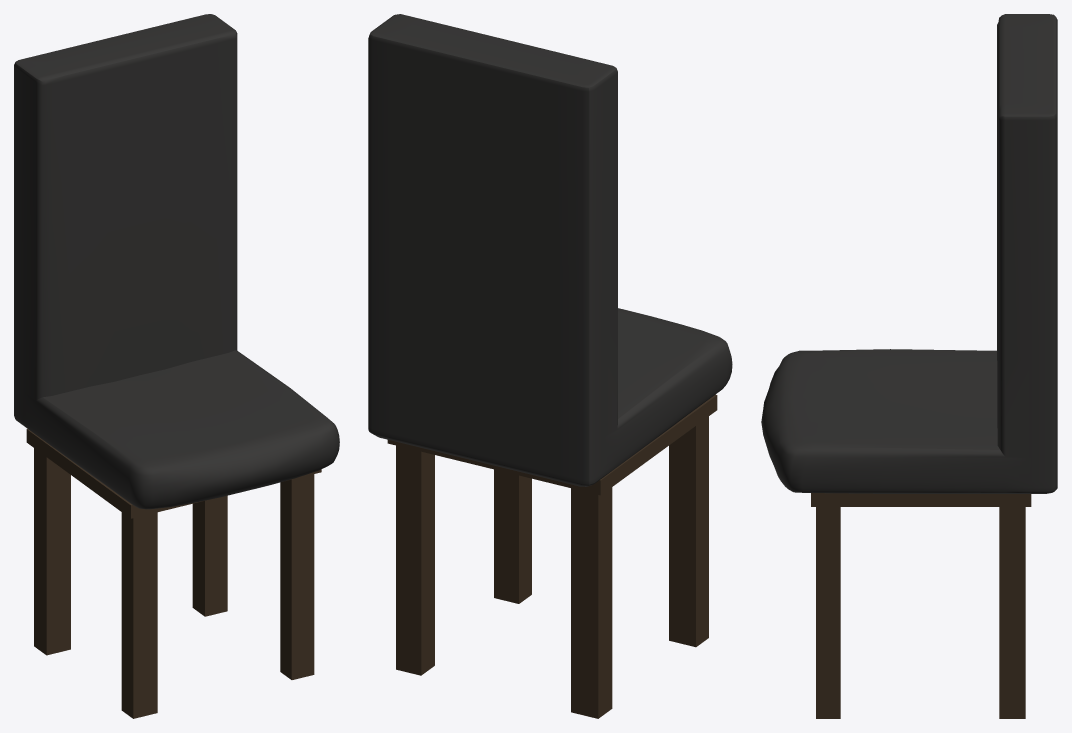
File: psyChair_v1.fbx
3 renders of one model, left to right at view 1: azimuth 30°, elevation 25°; view 2: azimuth 150°, elevation 25°; view 3: azimuth 270°, elevation 25°, orthographic. The views are drawn at different scales.
Visible parts, largest first — view 1: chair_geo; view 2: chair_geo; view 3: chair_geo.
Boxes of the visible parts, x1,y1,x2,y2 form: chair_geo: [14, 14, 339, 718]; chair_geo: [368, 14, 732, 718]; chair_geo: [761, 14, 1057, 718].
Bounding box in the file's own units: 82.9 × 223 × 98.33.
